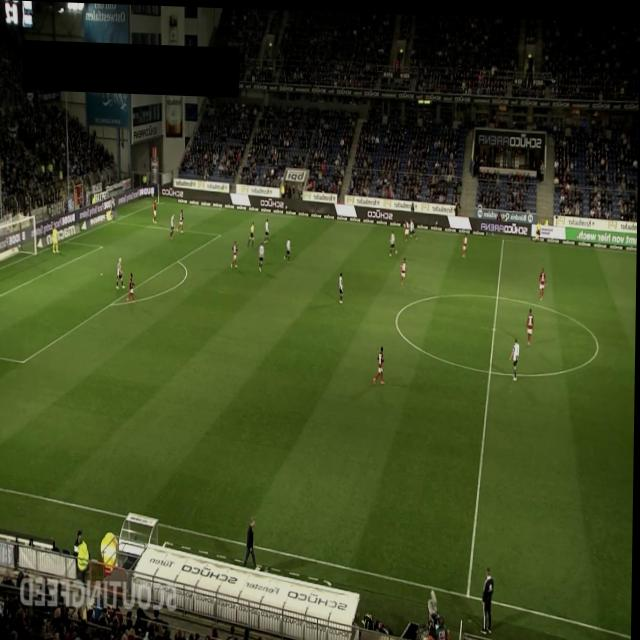goalkeeper: (52, 223, 60, 253)
player: (509, 333, 521, 377), (374, 344, 387, 382), (526, 304, 535, 343), (127, 272, 137, 302), (117, 256, 126, 288), (540, 263, 548, 297), (231, 239, 239, 267), (390, 227, 398, 254), (410, 216, 419, 238), (285, 235, 292, 261), (259, 240, 265, 270), (178, 207, 185, 232), (170, 210, 176, 238), (401, 254, 407, 282), (339, 269, 344, 301), (404, 216, 410, 240), (462, 232, 468, 256), (265, 216, 270, 242), (153, 199, 158, 223)
referee: (247, 218, 256, 247), (536, 215, 542, 238)
